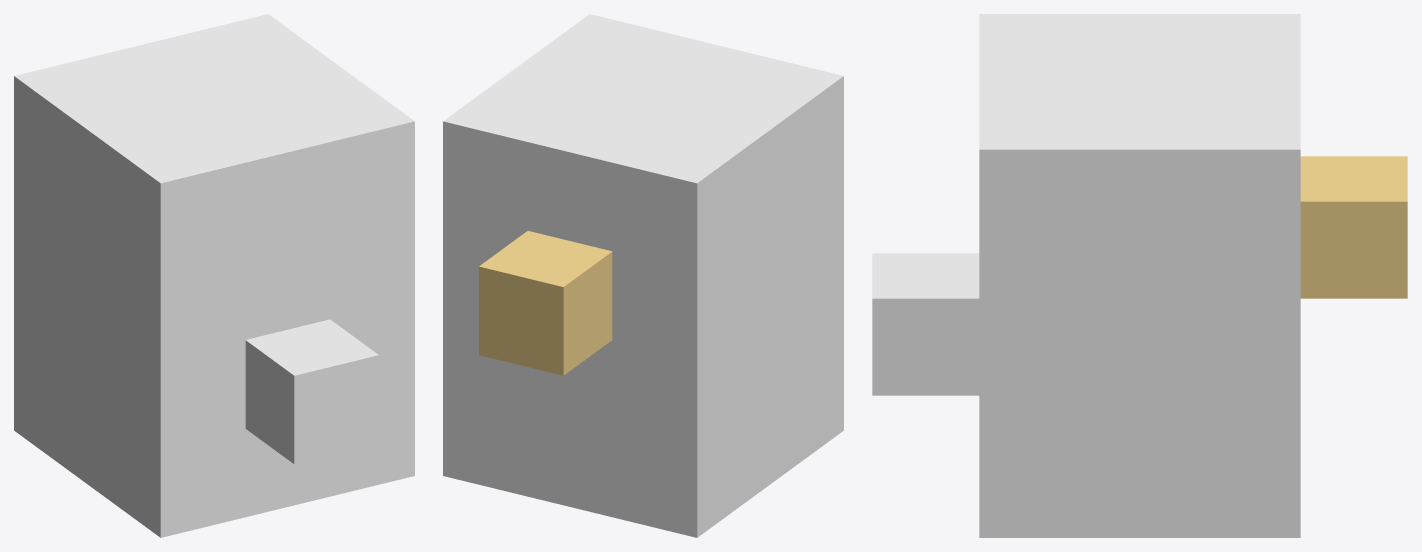
The model's file is Bird-2.obj.
3 views of the same model, side by side, from view 1: azimuth 30°, elevation 25°; view 2: azimuth 150°, elevation 25°; view 3: azimuth 270°, elevation 25° (orthographic). The views are drawn at different scales.
Bounding box in the file's own units: 0.3 × 0.4 × 0.5.
1 material, 1 textured.
